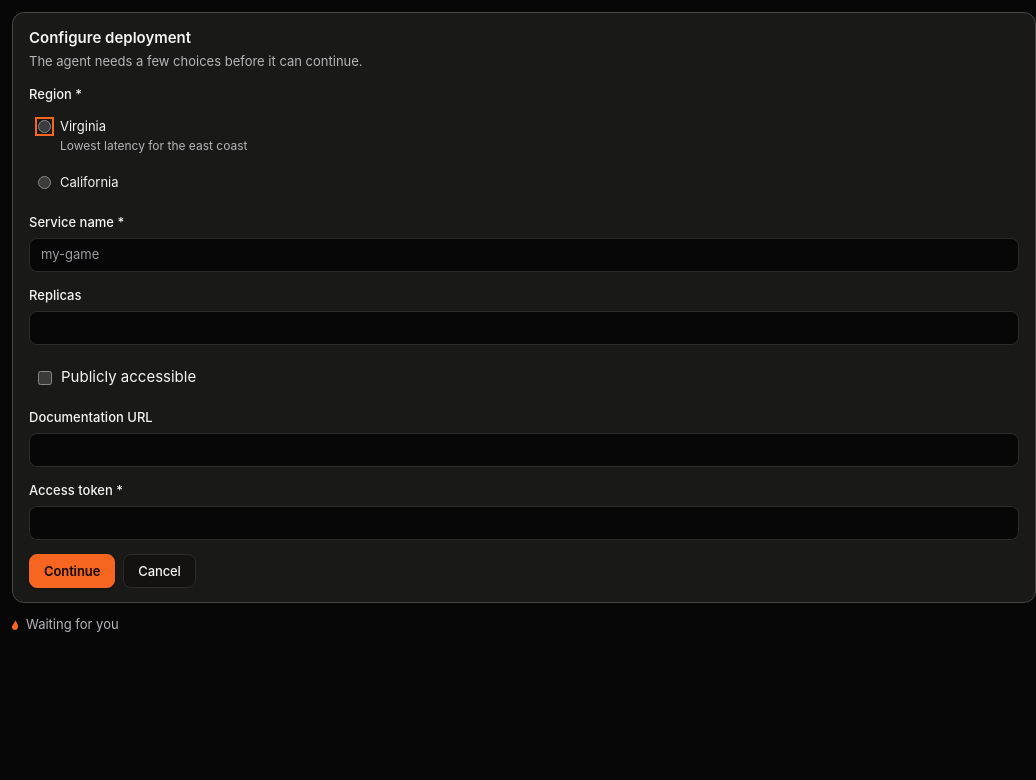
inline input prompt › submits typed values in the response frame, then forgets them locally
This screenshot has width=1036, height=780.
Click the radio button labelled "Virginia Lowest latency for the east coast": (44, 127) [38,120,51,133]
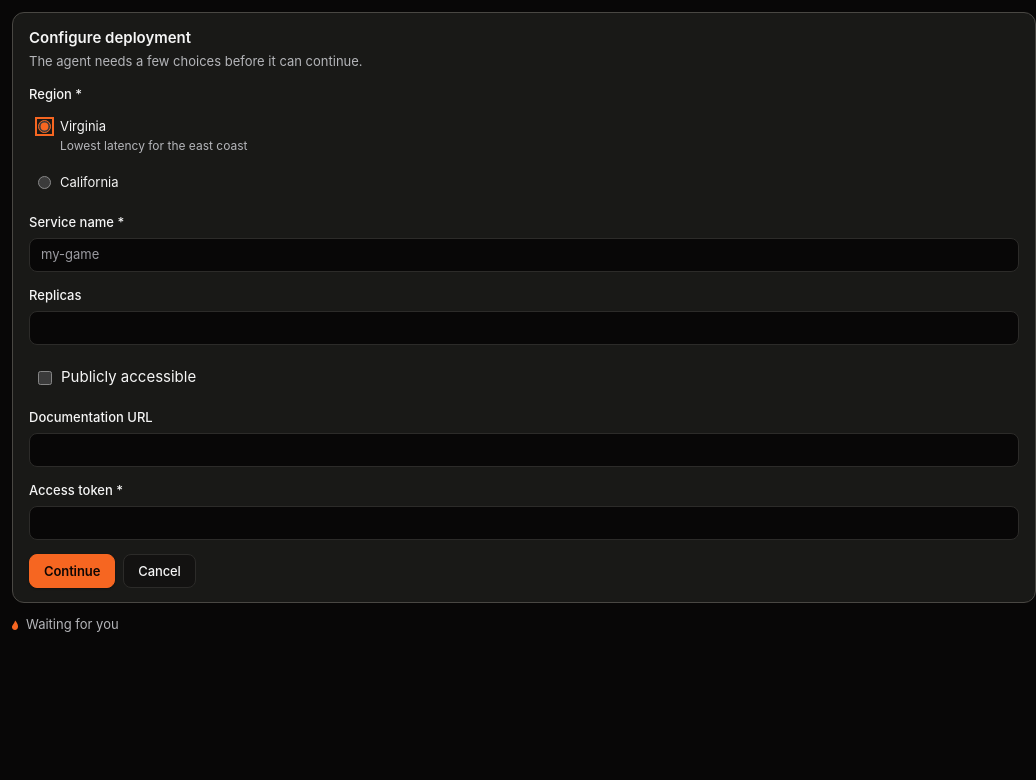
In the field labelled "Service name": (524, 255) [29,238,1019,272], type "launchpad"
In the number field labelled "Replicas": (524, 328) [29,311,1019,345], type "3"
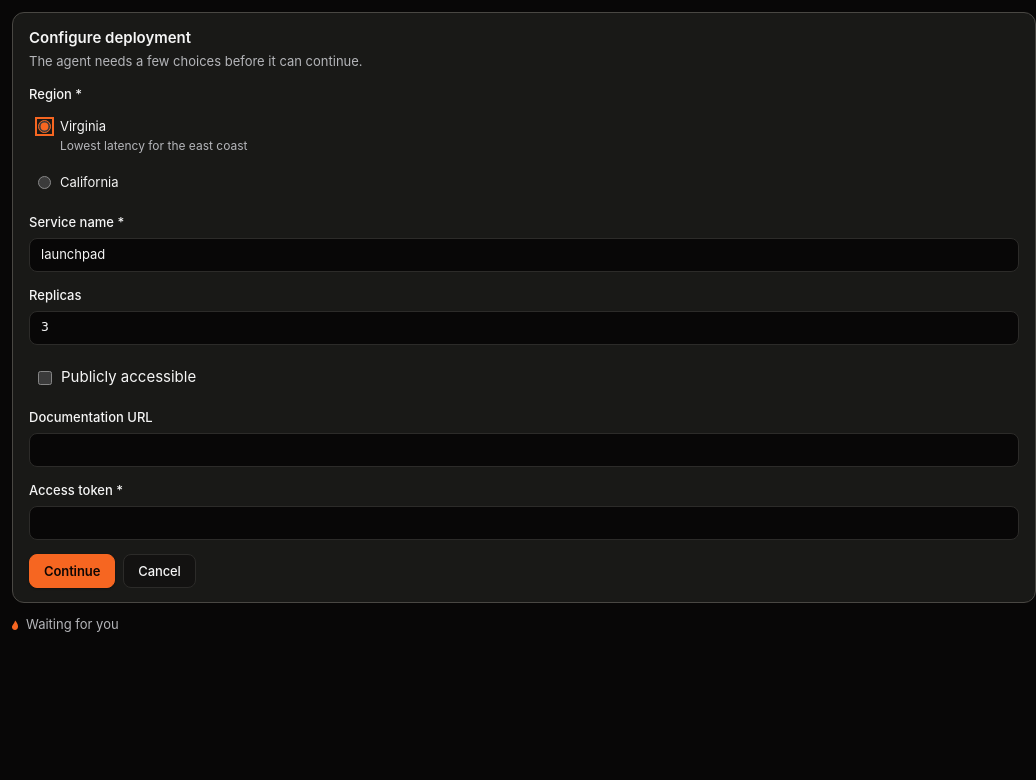
Click the checkbox labelled "Publicly accessible": (45, 378) [38,370,52,384]
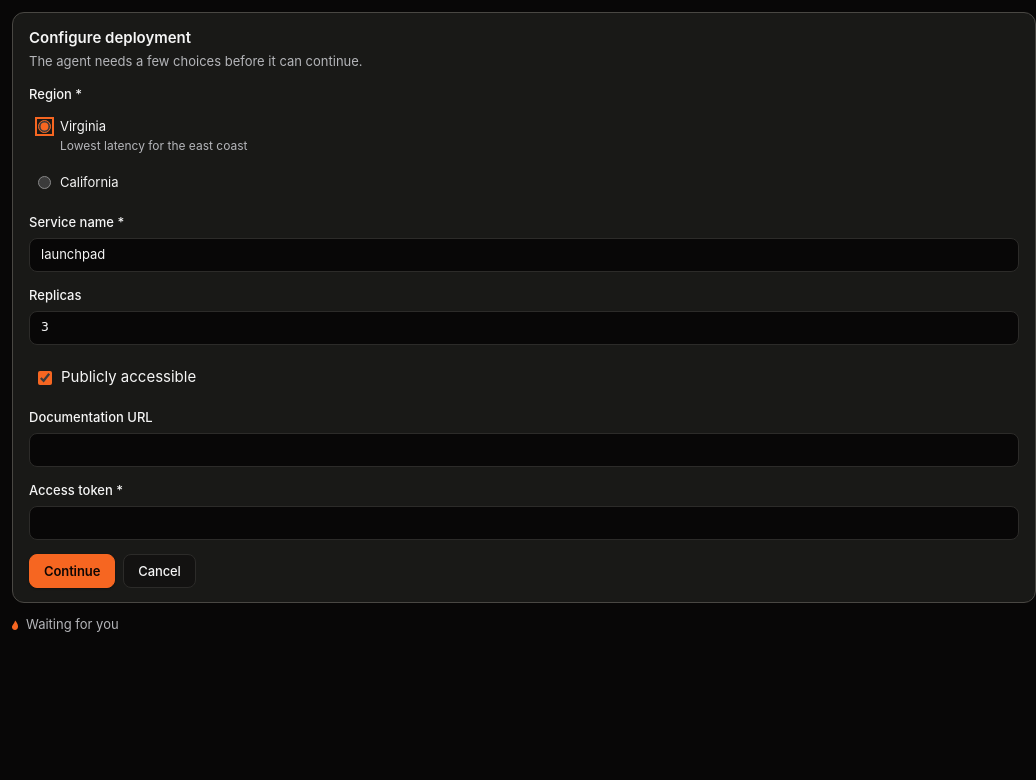
In the field labelled "Documentation URL": (524, 450) [29,433,1019,467], type "https://example.com/docs"
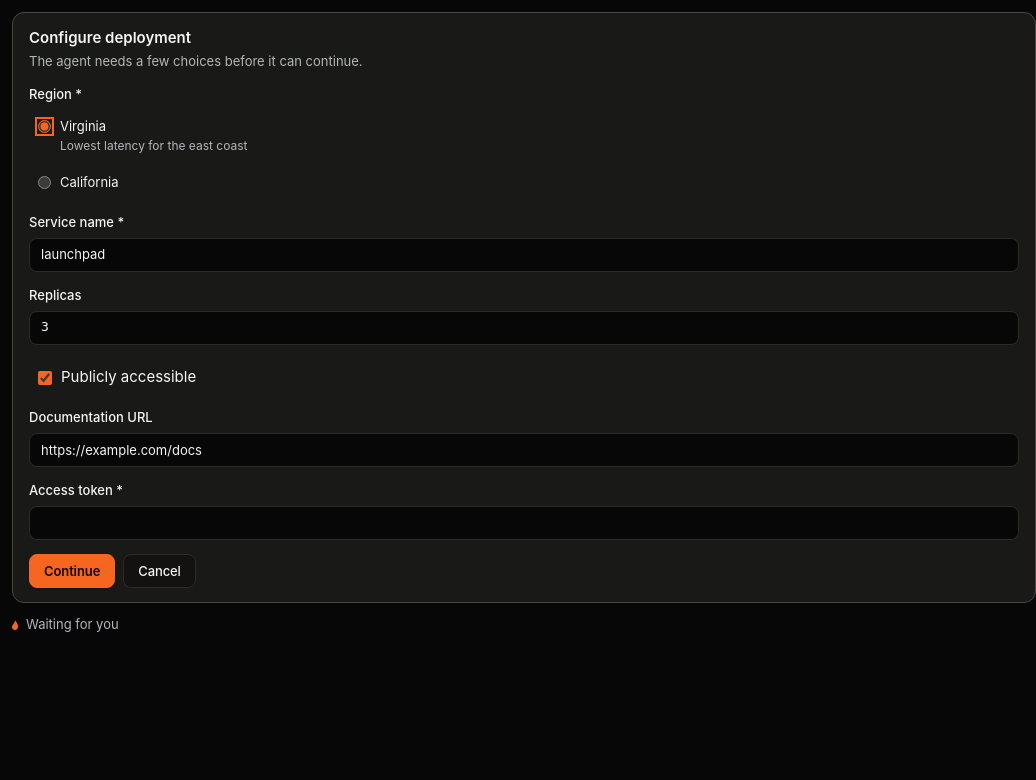
In the password field labelled "Access token *": (524, 523) [29,506,1019,540], type "do-not-store-this"
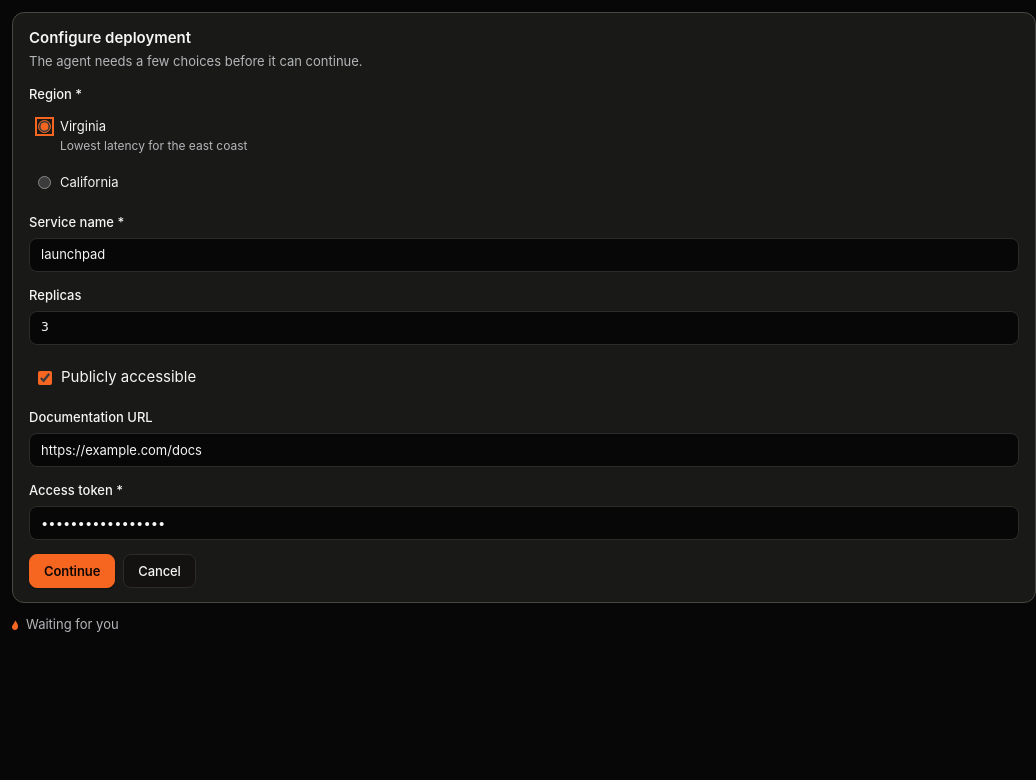
Click the button "Continue": (72, 571) [29,554,115,588]
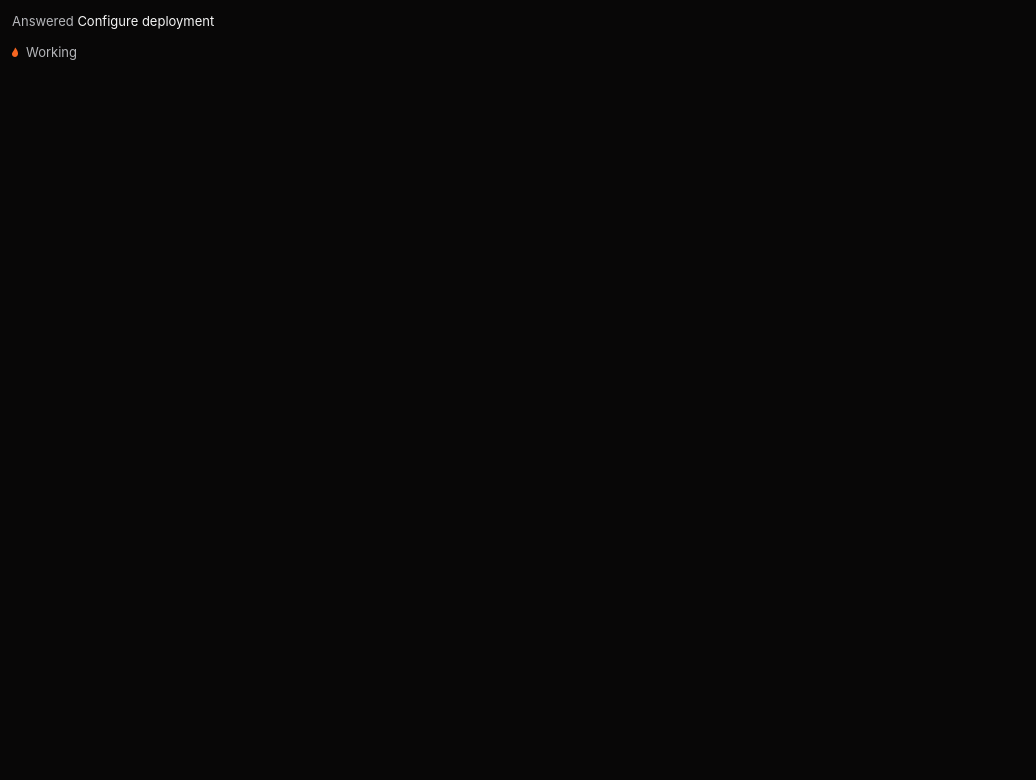
Expected: the field labelled "Access token" is gone
Expected: the element with class "input-record" reads "Answered Configure deployment", [12,13,214,29]
